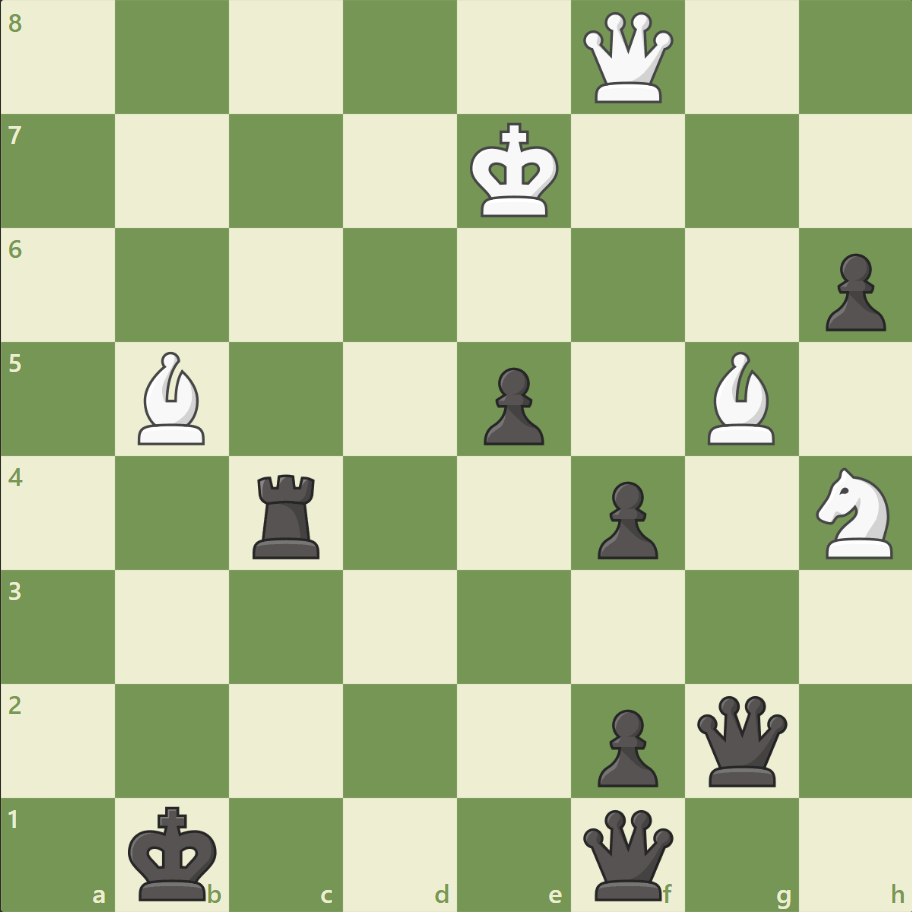B: (131, 347, 215, 449), (698, 347, 782, 449)
K: (465, 117, 565, 225)
N: (806, 461, 903, 564)
Q: (578, 9, 677, 108)
k: (124, 798, 224, 906)
p: (474, 359, 549, 450), (815, 246, 889, 337), (588, 473, 662, 564), (588, 700, 662, 791)
q: (691, 690, 790, 789), (578, 804, 677, 903)
r: (246, 466, 329, 563)
